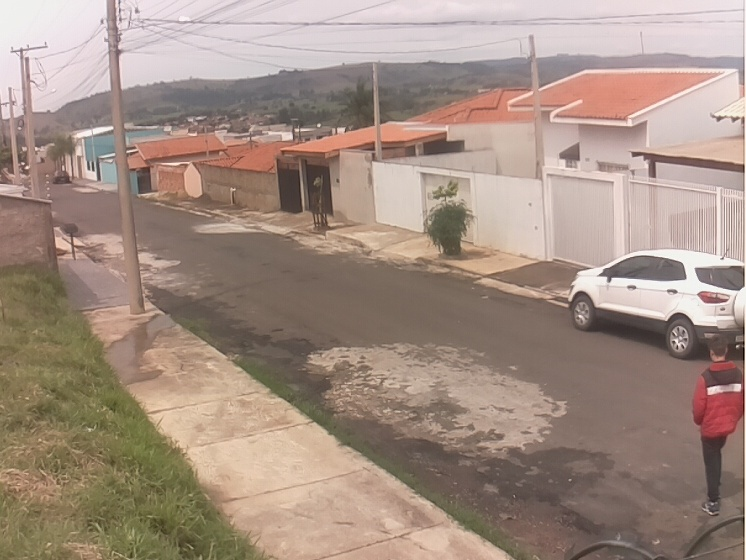person: (690, 334, 746, 516)
